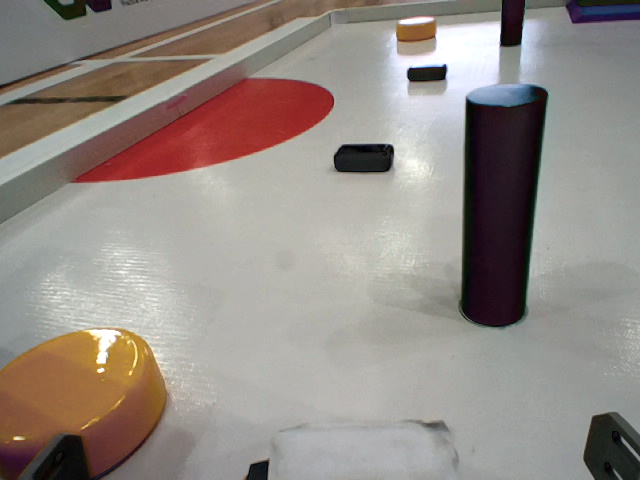black: (331, 138, 393, 173), (404, 66, 445, 78)
yellow: (1, 325, 178, 458), (394, 15, 437, 39)
zhuzi: (458, 81, 540, 328), (494, 1, 531, 50)
